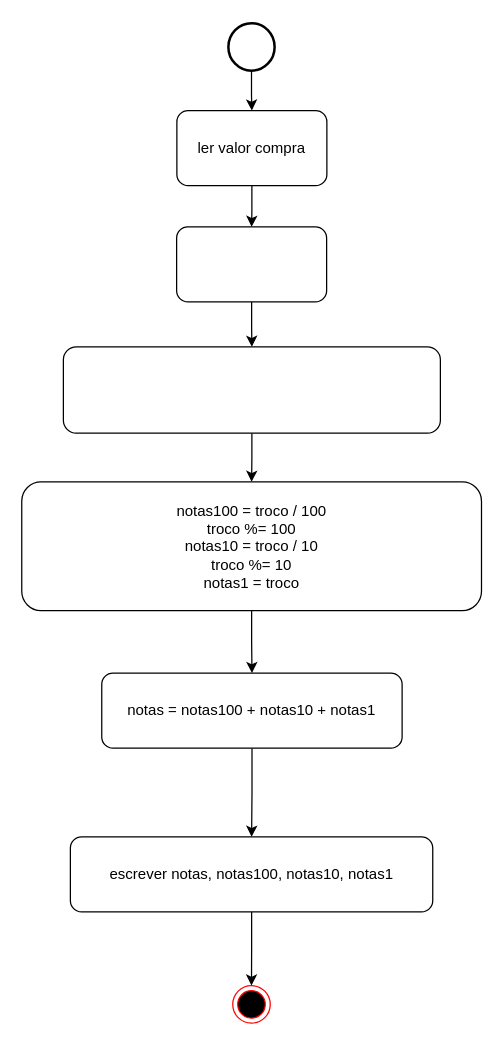
Some shapes in this 504 by 1045 pixel diagram are drawn without their labels. The centre of each missing label's shape, as x and y in pixels:
ler valorPago: the point at 251,264
troco = valorPago - valorCompra: the point at 251,389
